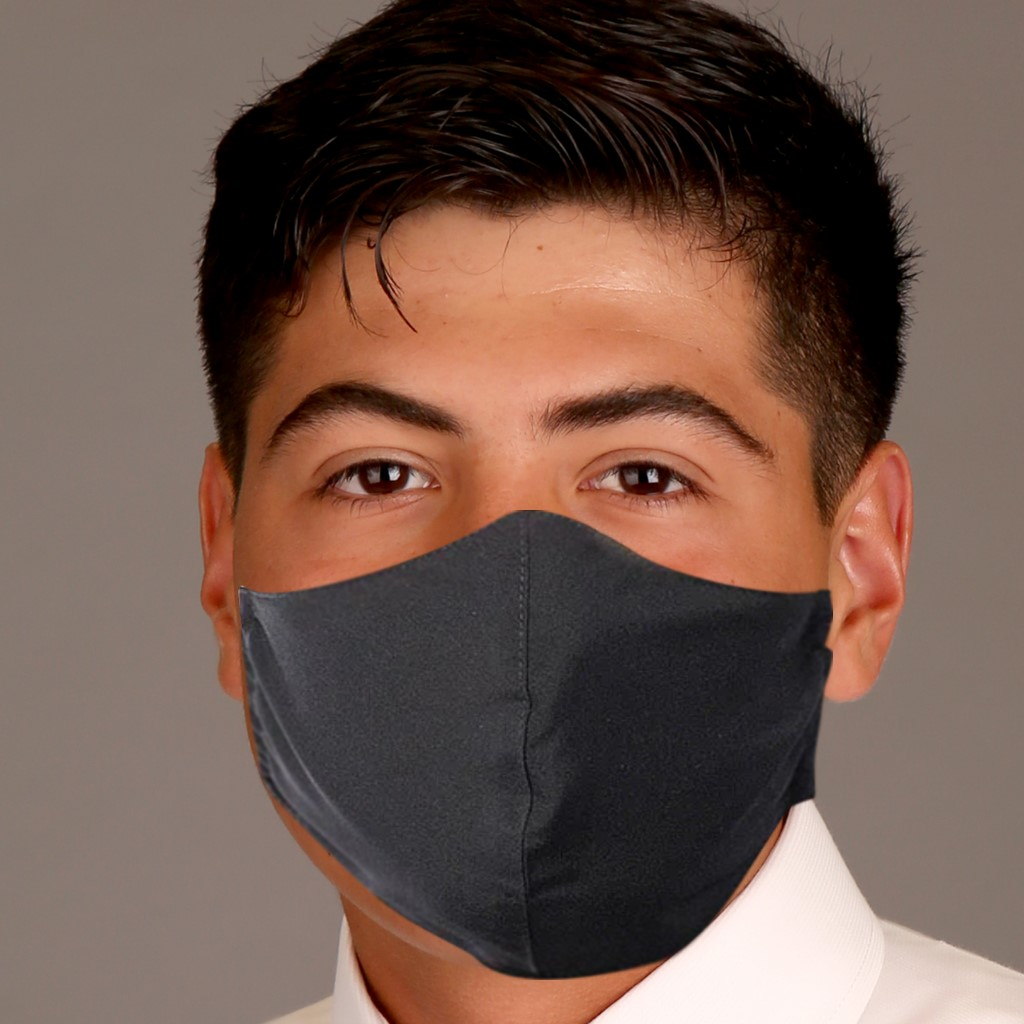con_mascara: (191, 194, 855, 968)
